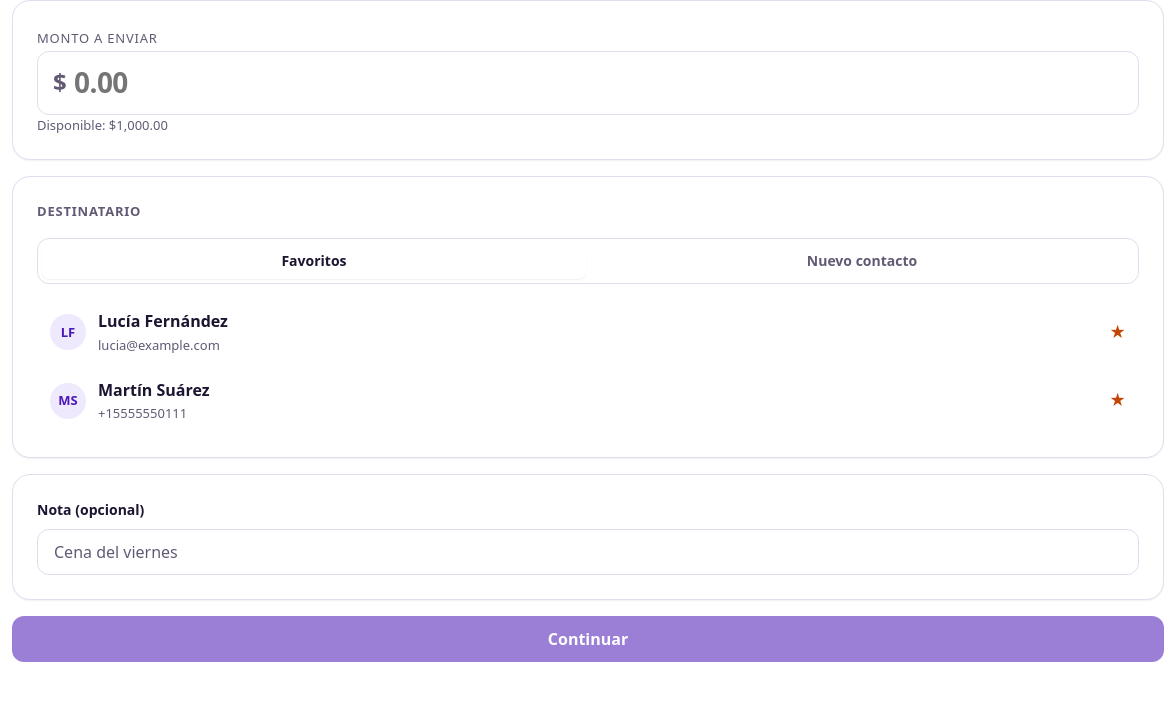
Scenario: ComposeStep › blocks and explains an amount above the balance
Click the button "LF Lucía Fernández lucia@example.com ★" at (68, 332), box top-left (37, 300), bottom-right (1139, 365)
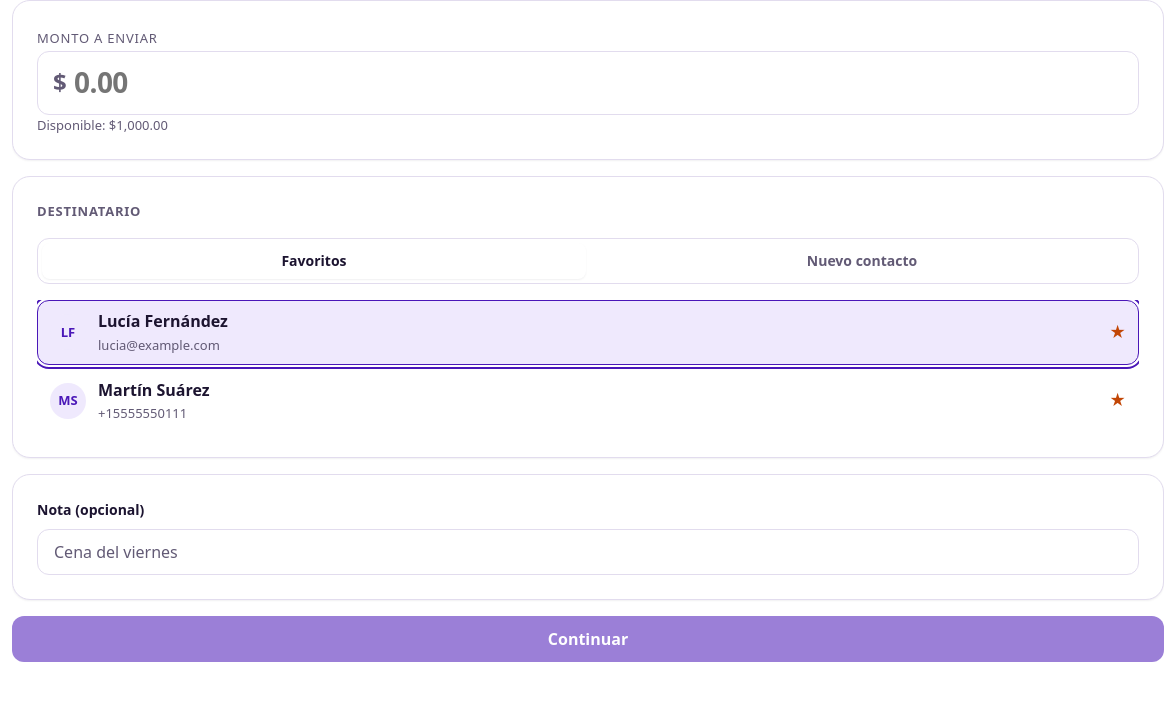
Type "1500" into the field labelled "Monto a enviar" at (588, 83), box top-left (37, 51), bottom-right (1139, 115)
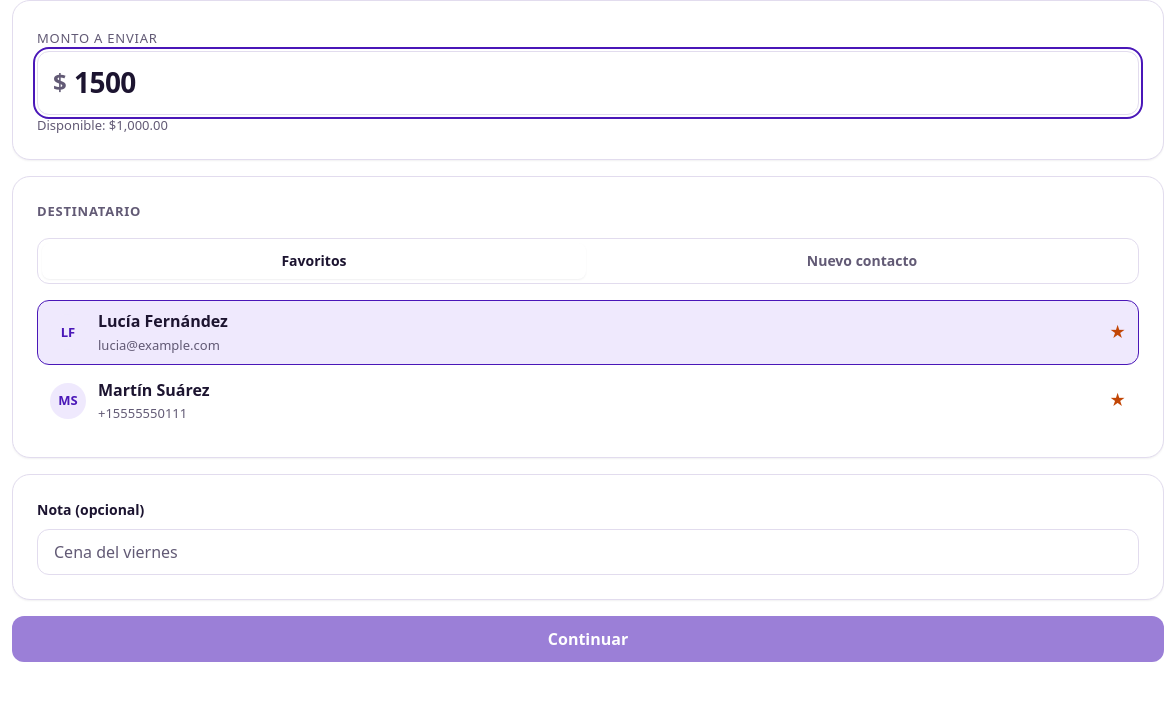
Press Tab
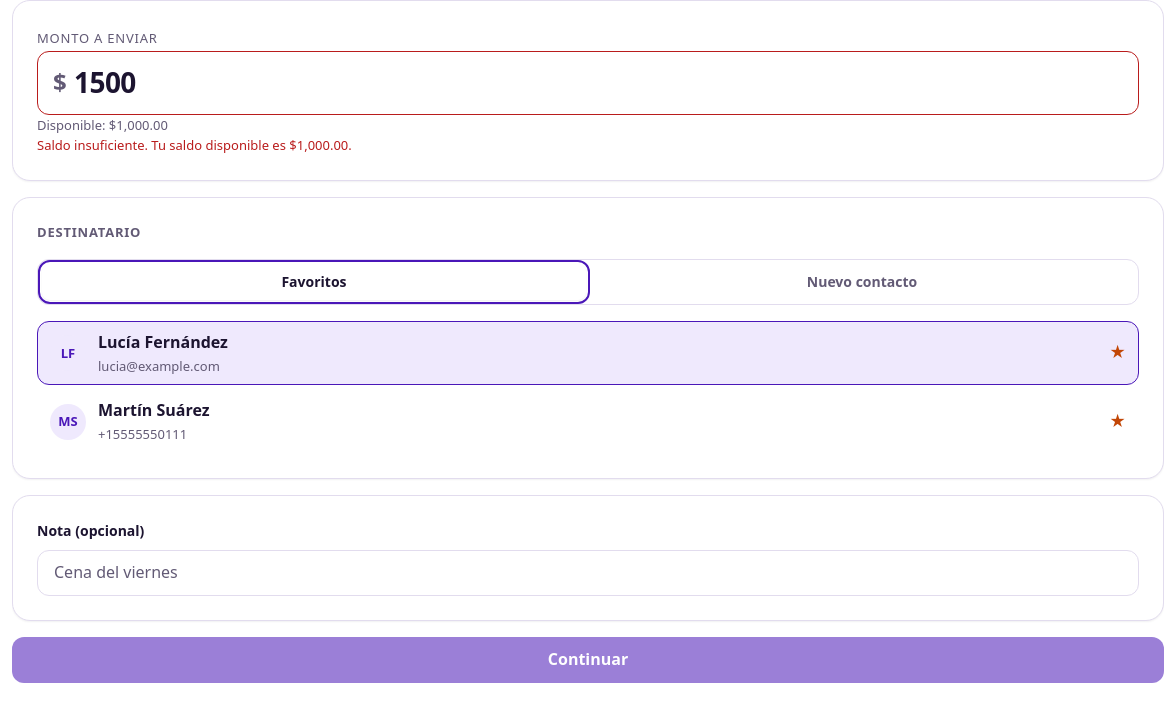
Expected: the button with test id "continue" is disabled, top-left (12, 637), bottom-right (1164, 683)
Expected: the message reads "Saldo insuficiente. Tu saldo disponible es $1,000.00.", top-left (37, 136), bottom-right (352, 154)
